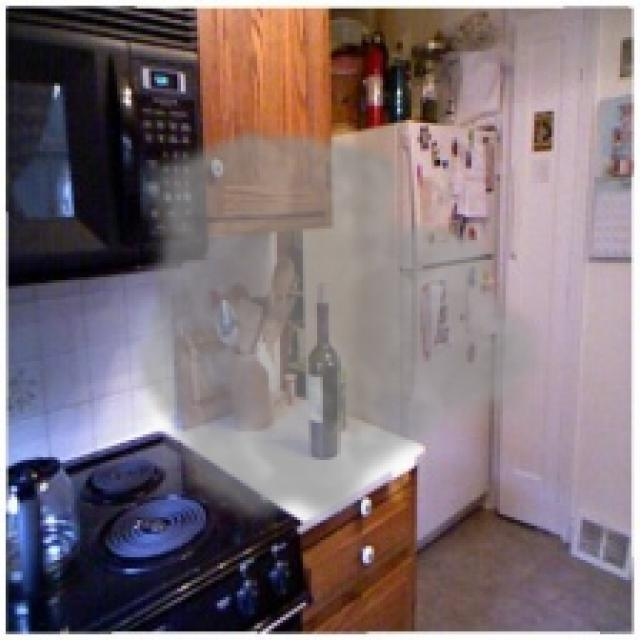Smoke: (128, 120, 554, 534)
